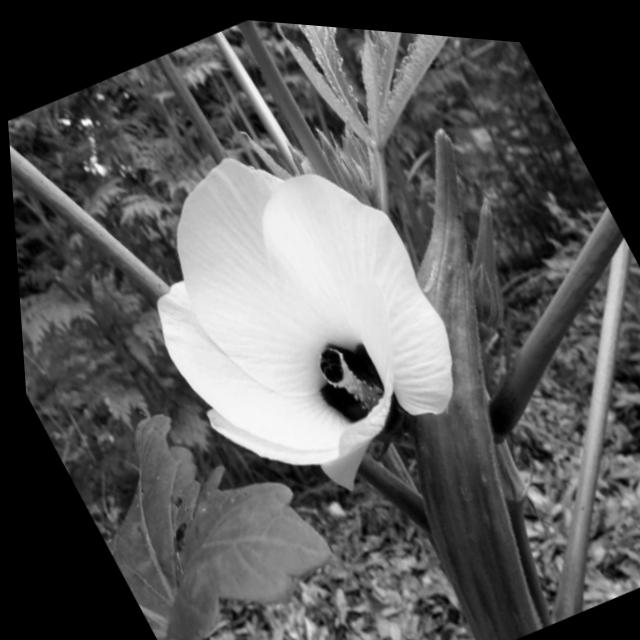Flower: (80, 89, 503, 534)
